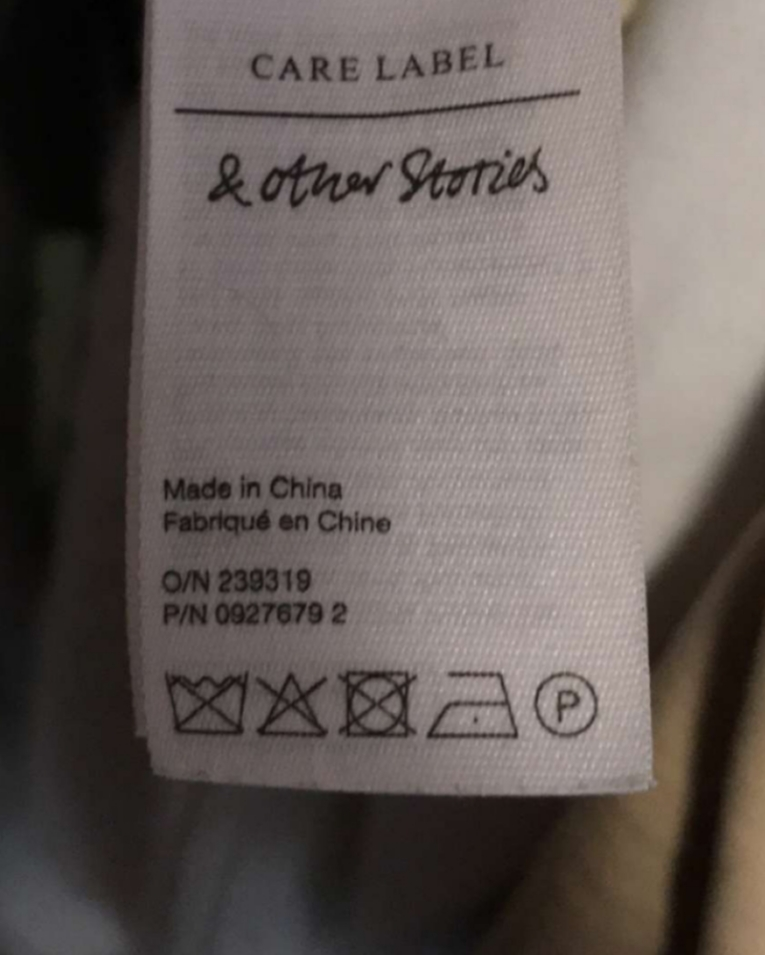do not bleach: (254, 649, 333, 750)
do not machine wash: (153, 664, 256, 748)
do not tumble dry: (331, 661, 427, 748)
dry clean: (527, 660, 618, 755)
iron low temp: (422, 655, 524, 748)
